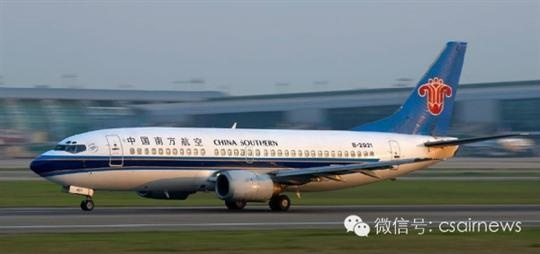airplane: (28, 40, 482, 215)
